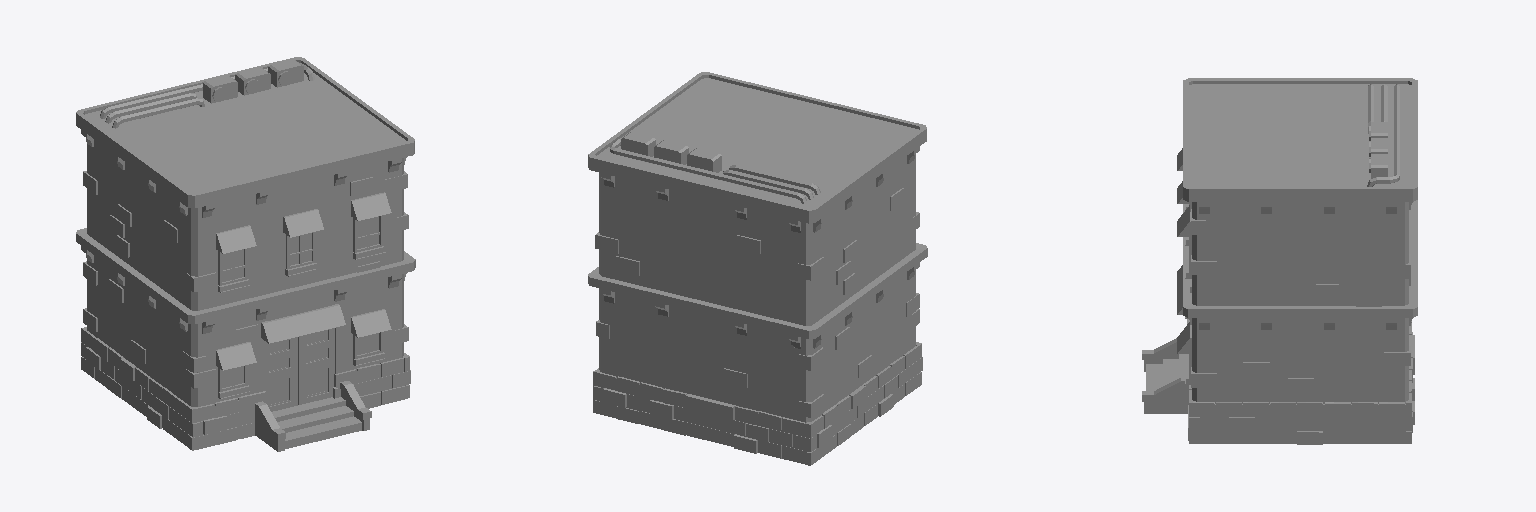
The model's file is 2Story_Double.obj.
3 views of the same model, side by side, from view 1: azimuth 30°, elevation 25°; view 2: azimuth 150°, elevation 25°; view 3: azimuth 270°, elevation 25° (orthographic).
Visible parts, largest first — view 1: 2Story_Double_Cube.114; view 2: 2Story_Double_Cube.114; view 3: 2Story_Double_Cube.114.
Boxes of the visible parts, <box> form: 2Story_Double_Cube.114: <box>76,57,415,451</box>; 2Story_Double_Cube.114: <box>588,72,927,465</box>; 2Story_Double_Cube.114: <box>1142,78,1417,444</box>.
Size of the model in its own units: 2.42 by 2.75 by 2.53.